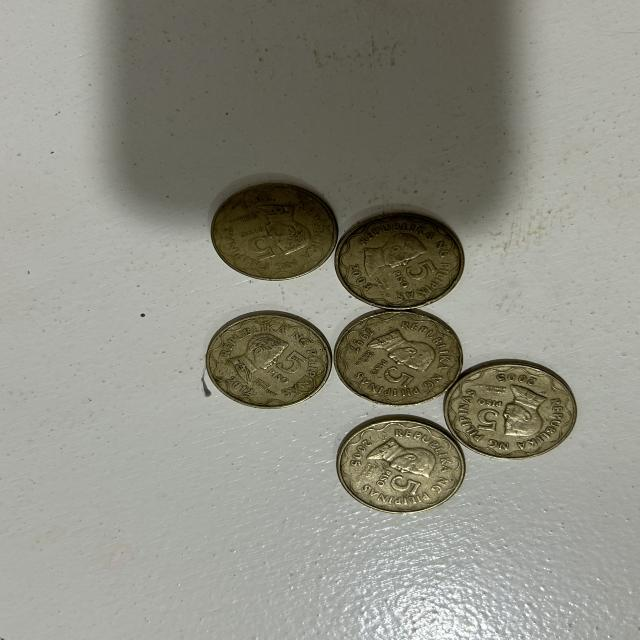5_Old_Front: (358, 358, 422, 397), (261, 349, 317, 384), (234, 225, 284, 262), (469, 394, 508, 438), (387, 258, 440, 288), (375, 470, 423, 501)
